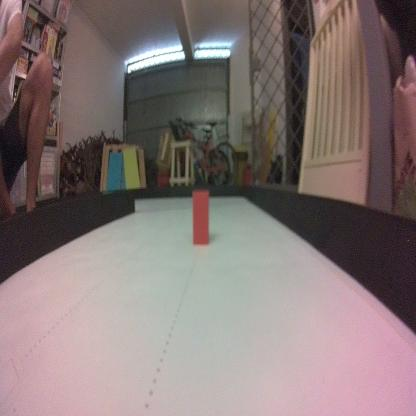red: (190, 190, 212, 247)
